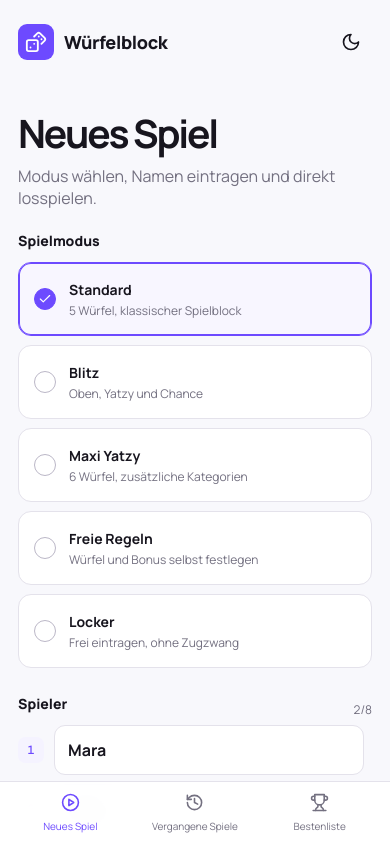
it: history and leaderboard › shows a retry action when the database is unavailable
Click the button "Vergangene Spiele": click(195, 813) [133,789,257,837]
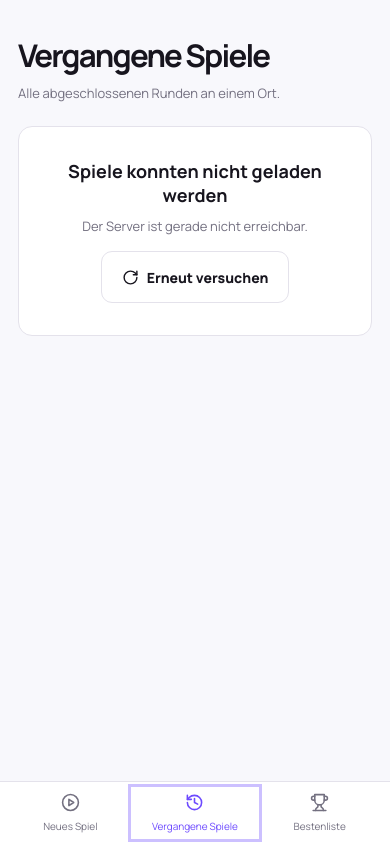
Expected: the heading "Spiele konnten nicht geladen werden" is shown, [49,159,341,207]
Expected: the button "Erneut versuchen" is shown, [101,251,289,303]
